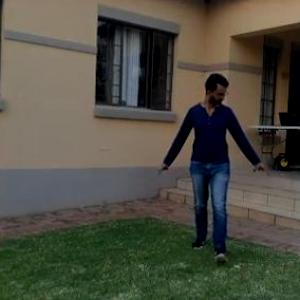land: (150, 65, 273, 265)
